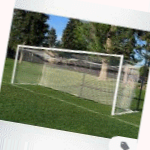goals: (9, 43, 139, 116)
